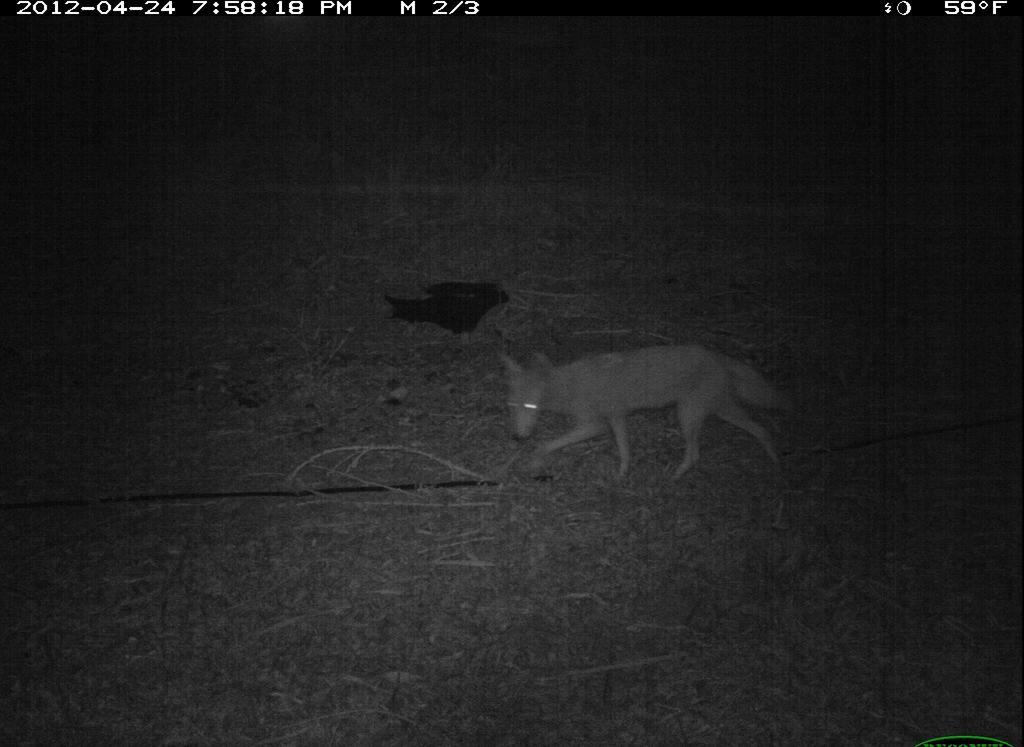coyote: (491, 327, 797, 486)
